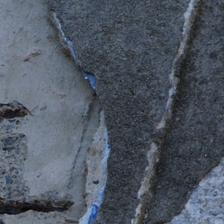Crack: (74, 26, 148, 104), (51, 0, 70, 97), (21, 196, 51, 224)
